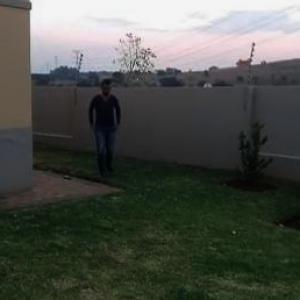follow: (86, 76, 122, 182)
